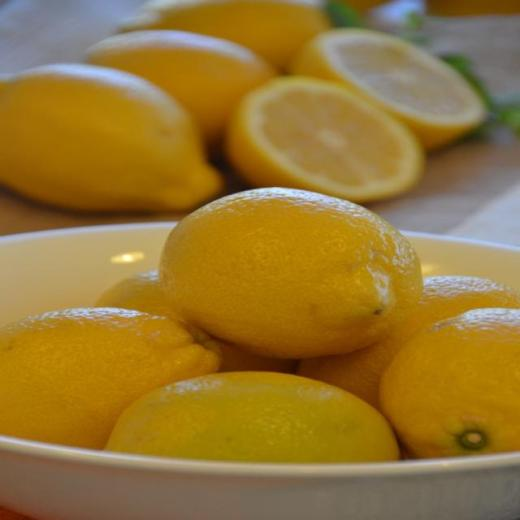Grape: (0, 184, 519, 464), (0, 0, 489, 210)
